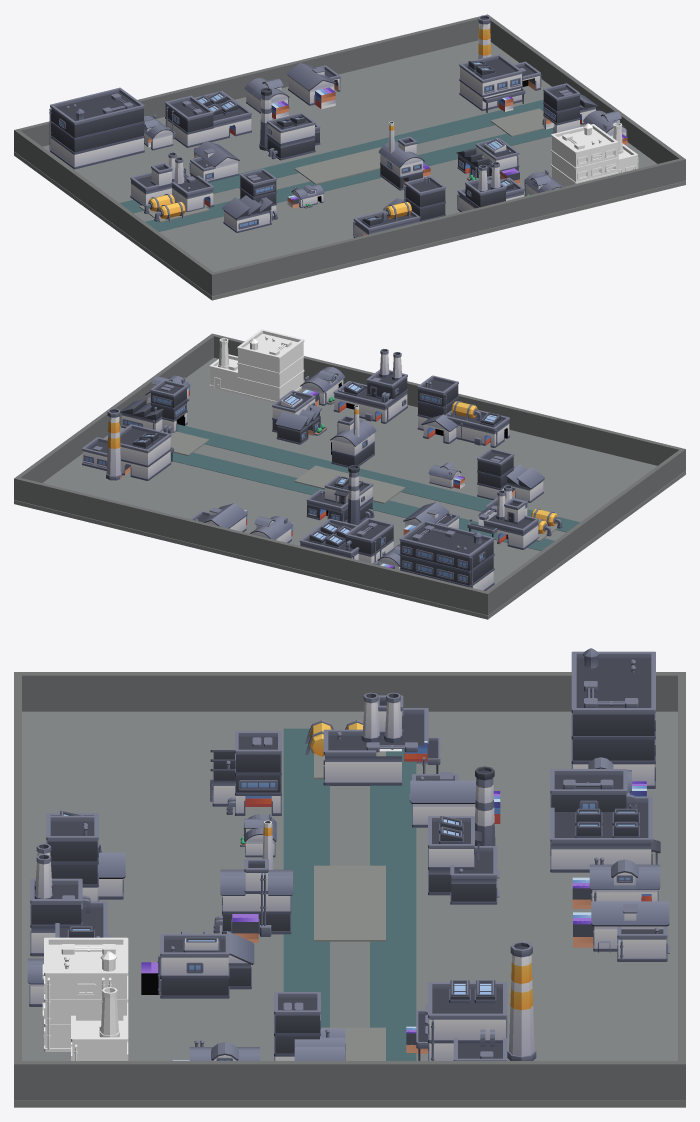
File: HarborLocks_Survival_Visual.glb
3 renders of one model, top to bottom at view 1: azimuth 30°, elevation 25°; view 2: azimuth 150°, elevation 25°; view 3: azimuth 270°, elevation 25°, orthographic. The views are drawn at different scales.
Visible parts, largest first — view 1: HarborFoundation, Boundary_S, Boundary_N, WestControlHall_00, Boundary_W, EastPumpHall_00, EastBoilerHall_00, Boundary_E, NorthFreightHall_00, WestTurbineHall_00, NorthLockChannel, SouthControlAnnex_00 (+16 smaller); view 2: HarborFoundation, Boundary_N, Boundary_S, EastPumpHall_00, Boundary_W, WestControlHall_00, SouthControlAnnex_00, EastBoilerHall_00, SouthLockChannel, Boundary_E, SouthFreightHall_00, WestTurbineHall_00 (+14 smaller); view 3: HarborFoundation, Boundary_E, Boundary_W, NorthLockChannel, EastPumpHall_00, WestControlHall_00, EastBoilerHall_00, SouthLockChannel, NorthFreightHall_00, WestTurbineHall_00, MidCoverNorthPump_00, MidCoverEastOffice_00 (+15 smaller).
Boxes of the visible parts, left/top/right/bottom form: HarborFoundation: left=14, top=40, right=685, bottom=300; Boundary_S: left=209, top=157, right=685, bottom=296; Boundary_N: left=14, top=14, right=489, bottom=152; WestControlHall_00: left=49, top=87, right=144, bottom=169; Boundary_W: left=14, top=129, right=215, bottom=294; EastPumpHall_00: left=551, top=122, right=638, bottom=186; EastBoilerHall_00: left=459, top=15, right=541, bottom=112; Boundary_E: left=485, top=15, right=685, bottom=181; NorthFreightHall_00: left=165, top=91, right=251, bottom=147; WestTurbineHall_00: left=130, top=152, right=213, bottom=221; NorthLockChannel: left=119, top=100, right=543, bottom=213; SouthControlAnnex_00: left=353, top=176, right=445, bottom=237; HarborFoundation: left=14, top=357, right=685, bottom=619; Boundary_N: left=14, top=477, right=490, bottom=615; Boundary_S: left=210, top=333, right=685, bottom=470; EastPumpHall_00: left=209, top=329, right=304, bottom=402; Boundary_W: left=483, top=449, right=685, bottom=614; WestControlHall_00: left=399, top=520, right=494, bottom=591; SouthControlAnnex_00: left=417, top=375, right=509, bottom=447; EastBoilerHall_00: left=82, top=408, right=173, bottom=480; SouthLockChannel: left=177, top=424, right=579, bottom=532; Boundary_E: left=14, top=334, right=215, bottom=500; SouthFreightHall_00: left=333, top=349, right=407, bottom=423; WestTurbineHall_00: left=467, top=485, right=562, bottom=549; HarborFoundation: left=14, top=711, right=685, bottom=1107; Boundary_E: left=14, top=1061, right=685, bottom=1100; Boundary_W: left=14, top=672, right=685, bottom=711; NorthLockChannel: left=370, top=749, right=416, bottom=1060; EastPumpHall_00: left=42, top=937, right=128, bottom=1060; WestControlHall_00: left=571, top=648, right=655, bottom=788; EastBoilerHall_00: left=406, top=941, right=536, bottom=1060; SouthLockChannel: left=283, top=728, right=329, bottom=1027; NorthFreightHall_00: left=550, top=769, right=660, bottom=872; WestTurbineHall_00: left=305, top=692, right=440, bottom=785; MidCoverNorthPump_00: left=428, top=766, right=499, bottom=904; MidCoverEastOffice_00: left=141, top=931, right=254, bottom=998.
Size of the model in its own units: 116 by 16.38 by 84.
2 materials, 1 textured.
